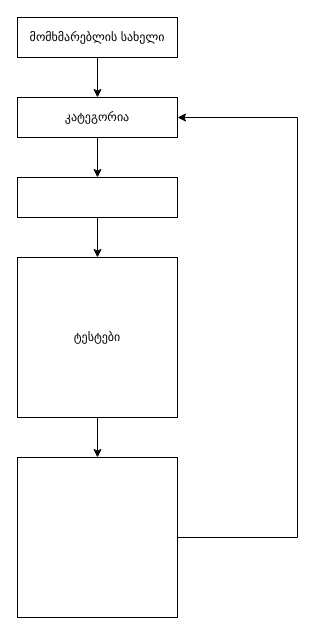
The diagram is 323 pixels wide and 635 high, and some of its shapes have lost their labels. The shapes that lost their labels are listed below. From the top down, each one's centre as x and y in pixels, then its label:
point 97,197: სირთულე
point 97,537: შედეგი
